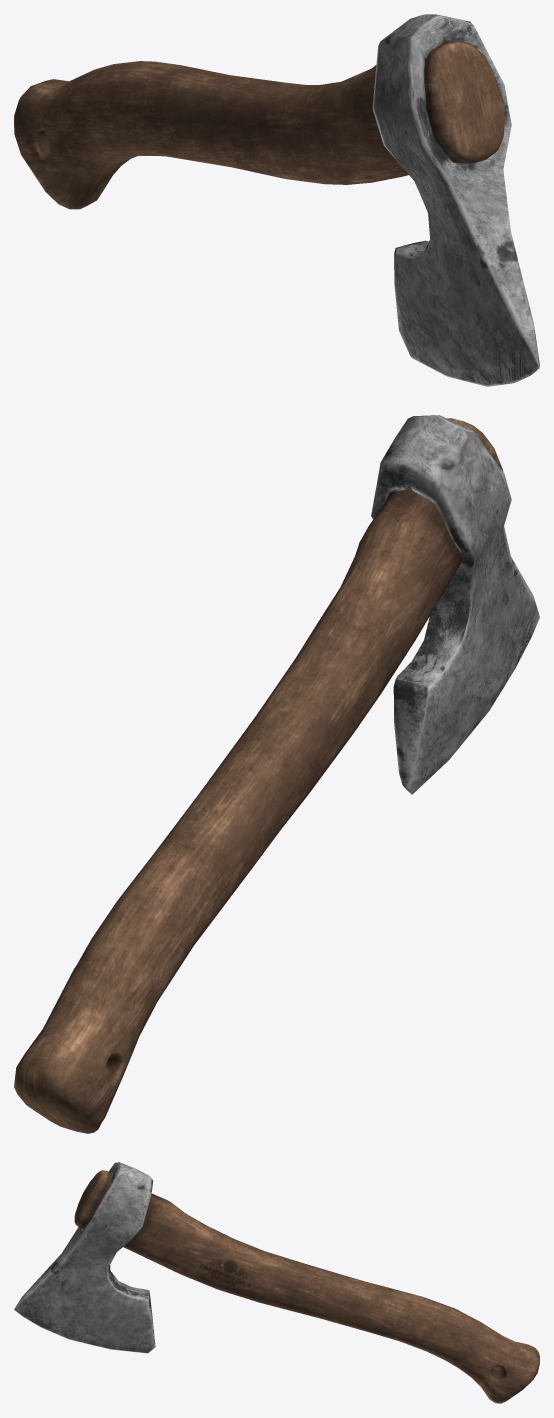
The model's file is axe.obj.
3 renders of one model, top to bottom at view 1: azimuth 30°, elevation 25°; view 2: azimuth 150°, elevation 25°; view 3: azimuth 270°, elevation 25°, orthographic. The views are drawn at different scales.
Visible parts, largest first — view 1: defaultMaterial, defaultMaterial.001; view 2: defaultMaterial, defaultMaterial.001; view 3: defaultMaterial, defaultMaterial.001.
Boxes of the visible parts, <box> form: defaultMaterial: <box>14,41,504,209</box>; defaultMaterial.001: <box>372,14,539,386</box>; defaultMaterial: <box>14,418,503,1133</box>; defaultMaterial.001: <box>371,415,539,794</box>; defaultMaterial: <box>74,1170,539,1403</box>; defaultMaterial.001: <box>14,1162,155,1353</box>.
Bounding box in the file's own units: 0.2912 × 1.33 × 2.67.
Materials: 2 (2 with a texture image).
